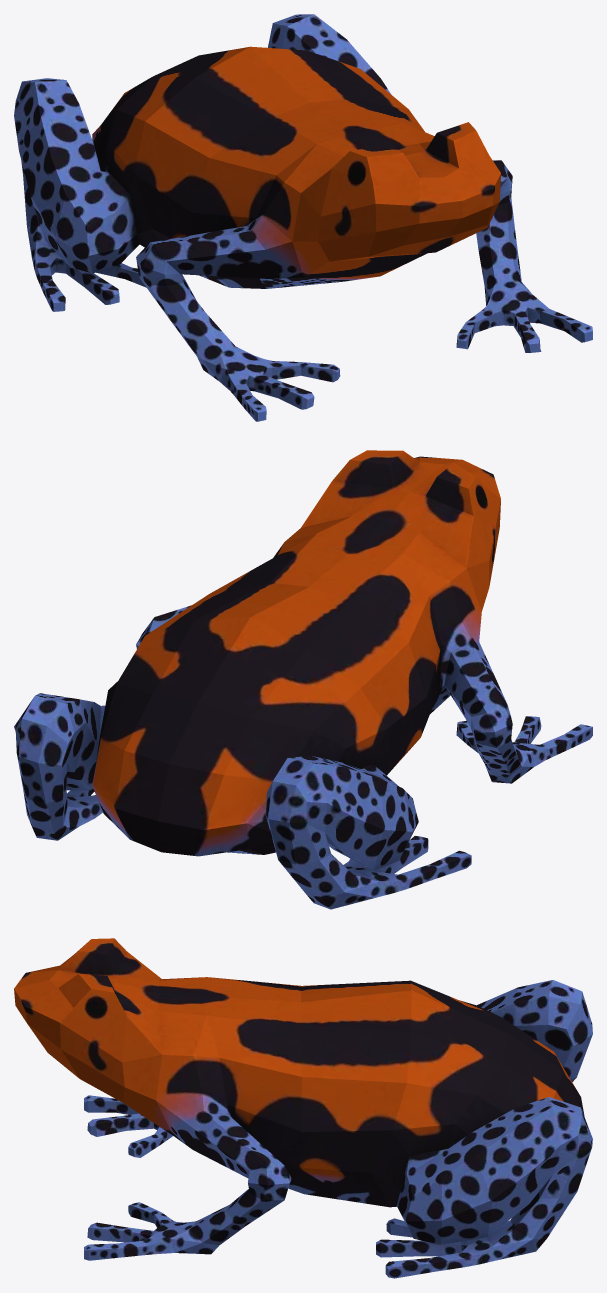
File: 1KWb99rd8t2.glb
3 renders of one model, top to bottom at view 1: azimuth 30°, elevation 25°; view 2: azimuth 150°, elevation 25°; view 3: azimuth 270°, elevation 25°, orthographic. The views are drawn at different scales.
Visible parts, largest first — view 1: PoisonDartFrog_Mesh; view 2: PoisonDartFrog_Mesh; view 3: PoisonDartFrog_Mesh.
Part boxes in pixels (bbox=[...]): PoisonDartFrog_Mesh: bbox=[14, 14, 592, 421]; PoisonDartFrog_Mesh: bbox=[14, 450, 592, 909]; PoisonDartFrog_Mesh: bbox=[14, 938, 592, 1278].
Bounding box in the file's own units: 1.83 × 1 × 2.35.
1 material, 1 textured.
